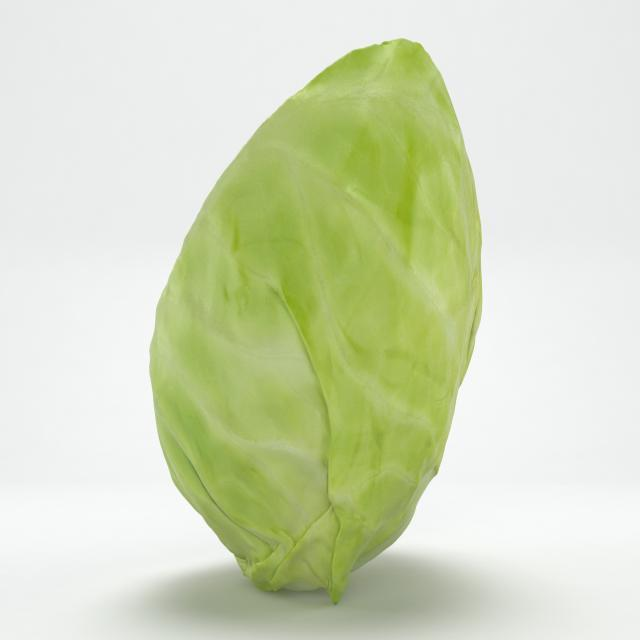haft-cabbage: (146, 36, 486, 611)
